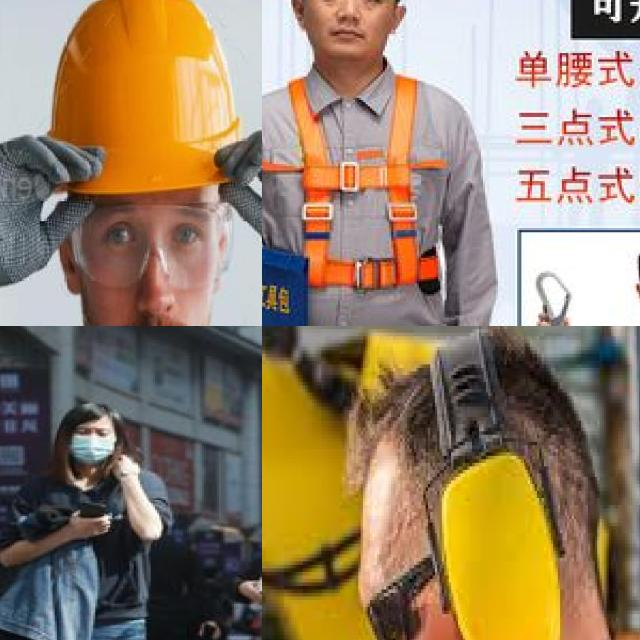Ear-protection: (430, 448, 560, 640)
Harness: (262, 70, 462, 326)
No_Ear-Protection: (56, 229, 84, 305)
face_mask: (66, 425, 114, 465)
face_nomask: (82, 258, 212, 326)
glasses: (71, 204, 231, 291), (360, 533, 430, 640)
hand_glove: (0, 135, 102, 287), (215, 130, 262, 236)
hand_noglove: (69, 512, 111, 538), (109, 448, 143, 480), (236, 574, 262, 607)
head_helmet: (48, 0, 240, 195)
head_nohelmet: (70, 398, 127, 420)
person: (0, 381, 208, 640)
